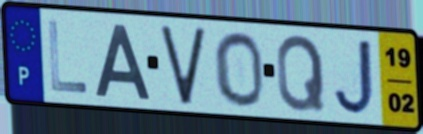A: (92, 22, 153, 101)
J: (331, 36, 377, 118)
L: (45, 18, 90, 96)
O: (211, 29, 266, 110)
Q: (274, 32, 328, 114)
V: (158, 25, 208, 107)
